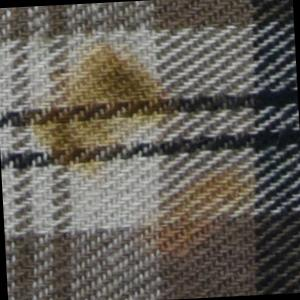Oil Stain: (15, 29, 188, 185), (130, 165, 266, 253)
